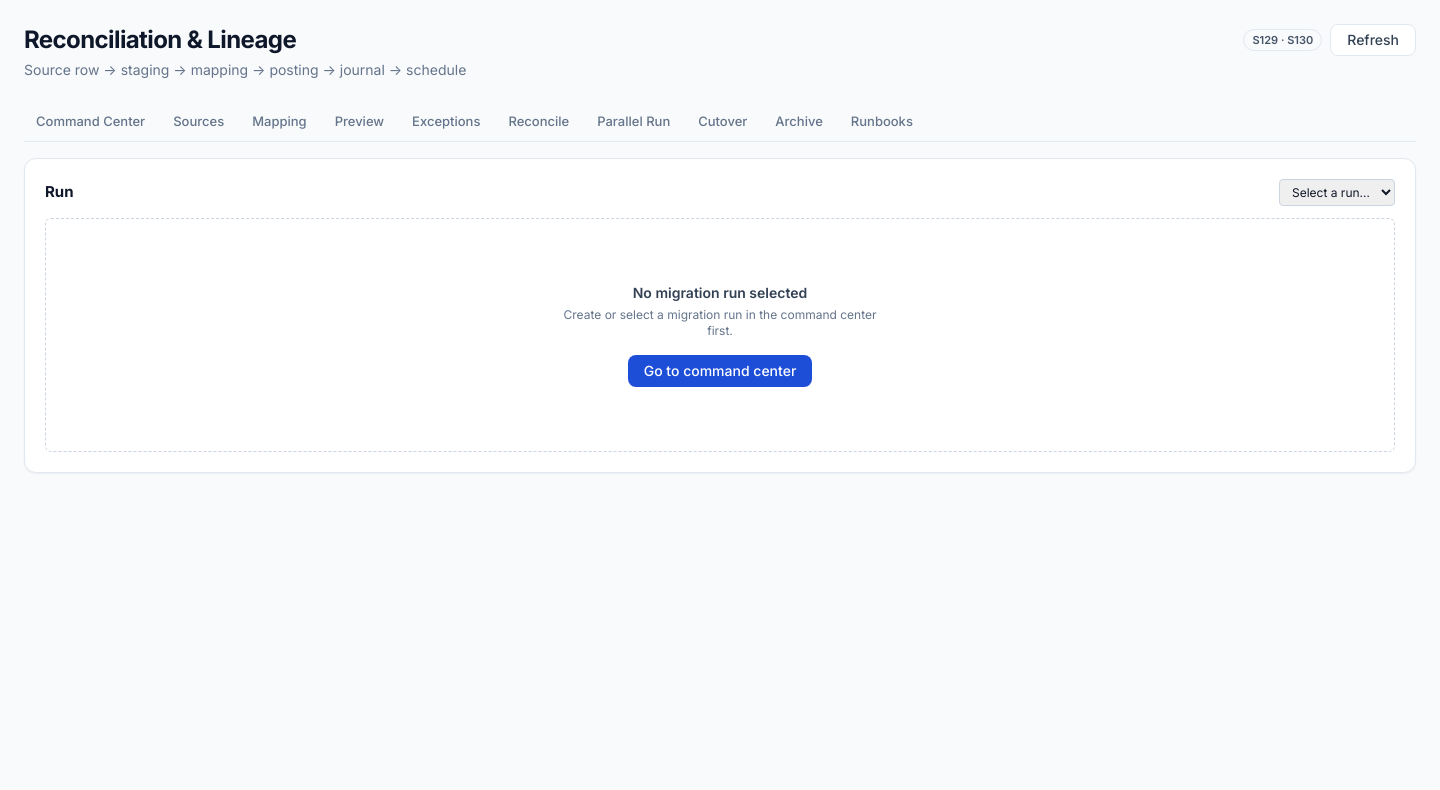
Test: MigrationReconcile › marks a staged-but-unpromoted row honestly
Select "run-a" in the dropdown with test id "reconcile-run-select" at (1337, 192), box top-left (1279, 178), bottom-right (1395, 206)
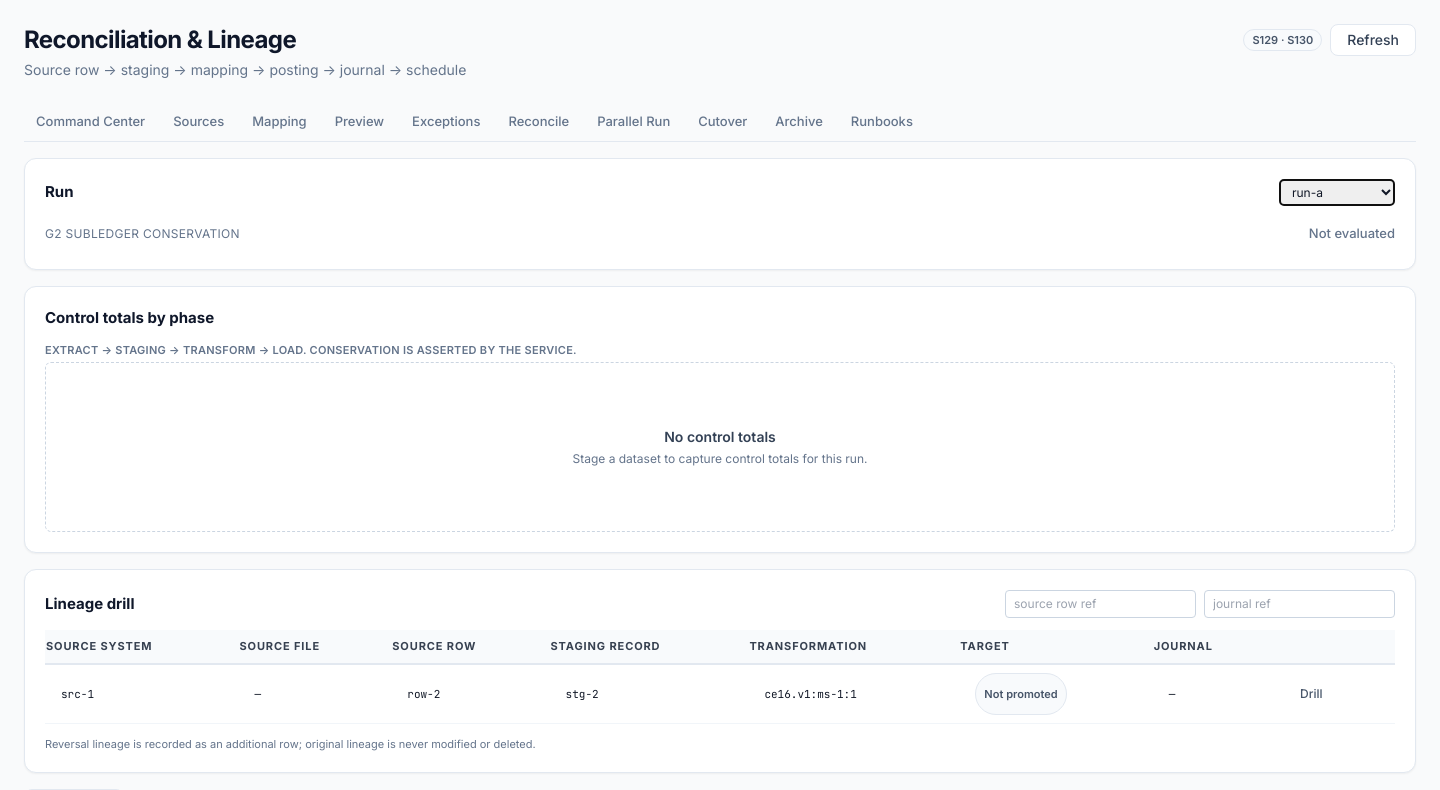
Now the row with test id "lineage-row-ln-2" shows "Not promoted", box top-left (984, 686), bottom-right (1058, 700)
